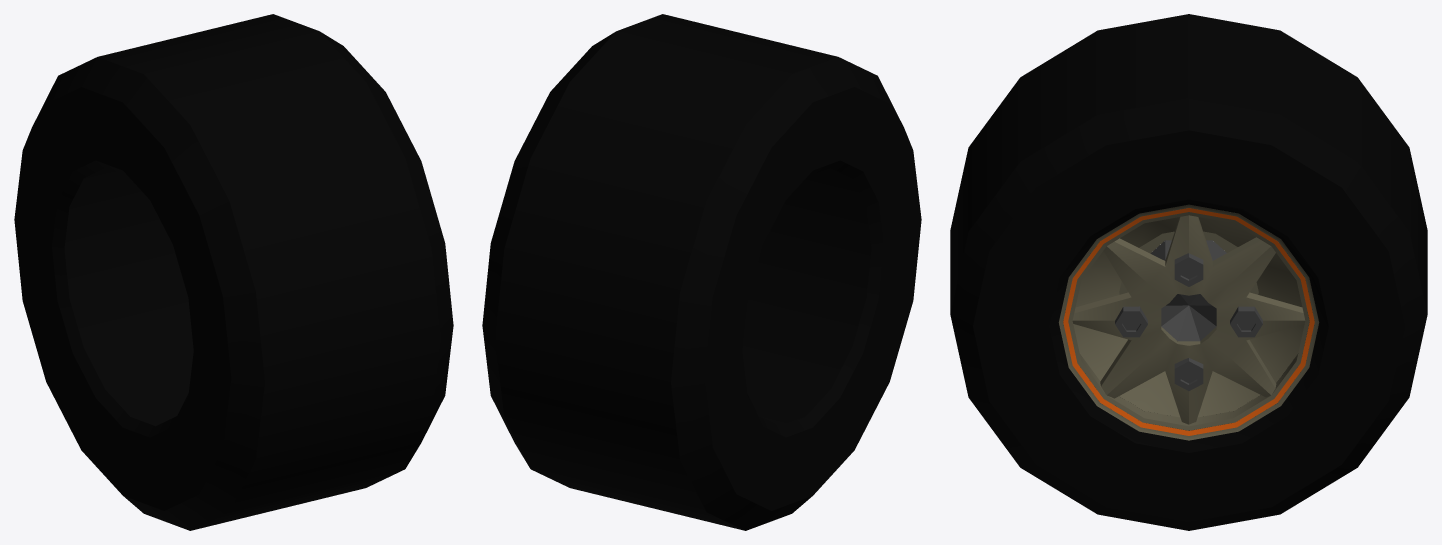
Rendered from ruedaDelanteraIzq.glb.
3 renders of one model, left to right at view 1: azimuth 30°, elevation 25°; view 2: azimuth 150°, elevation 25°; view 3: azimuth 270°, elevation 25°, orthographic.
Parts seen in each view (by area): view 1: ruedaDelanteraIzq; view 2: ruedaDelanteraIzq; view 3: ruedaDelanteraIzq.
Boxes of the visible parts, bbox=[...] form: ruedaDelanteraIzq: bbox=[14, 14, 453, 530]; ruedaDelanteraIzq: bbox=[482, 14, 921, 530]; ruedaDelanteraIzq: bbox=[950, 14, 1427, 530].
Bounding box in the file's own units: 1.37 × 2.6 × 2.6.
